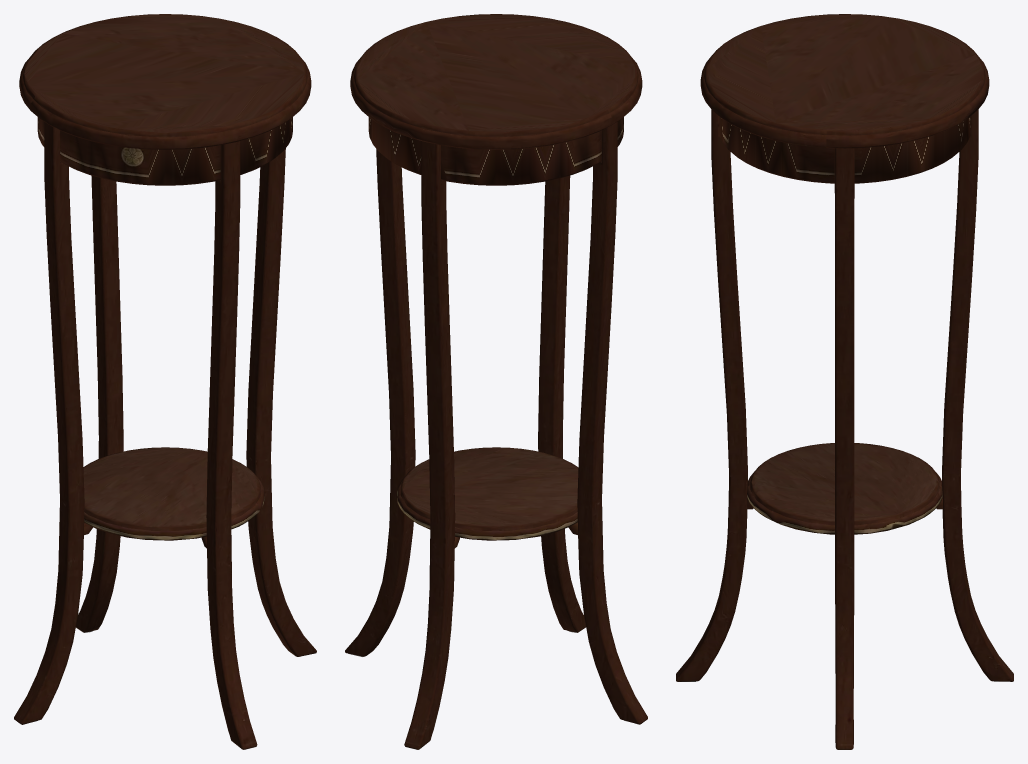
The model's file is side-table-tall-01.glb.
The picture shows the model from 3 angles, left to right: view 1: azimuth 30°, elevation 25°; view 2: azimuth 150°, elevation 25°; view 3: azimuth 270°, elevation 25°; orthographic projection.
Parts seen in each view (by area): view 1: side_table_tall_01; view 2: side_table_tall_01; view 3: side_table_tall_01.
Boxes of the visible parts, bbox=[...] form: side_table_tall_01: bbox=[14, 14, 316, 749]; side_table_tall_01: bbox=[345, 14, 647, 749]; side_table_tall_01: bbox=[676, 14, 1013, 749].
Size of the model in its own units: 0.384 by 0.7611 by 0.384.
1 material, 1 textured.
